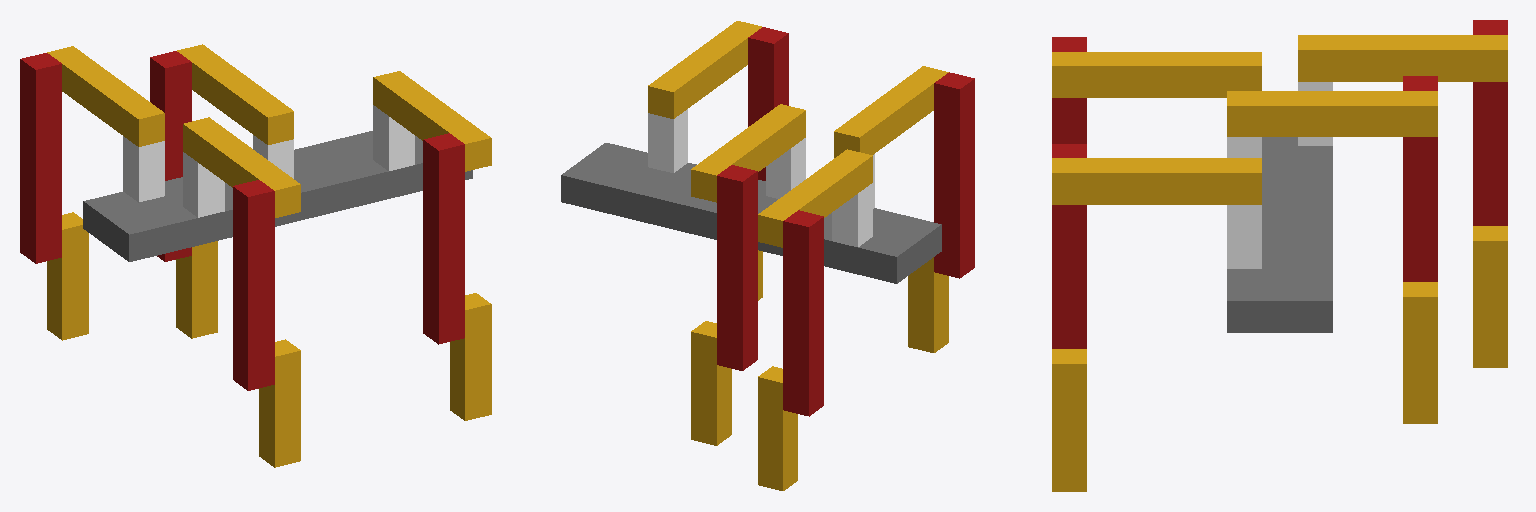
robot.urdf — v0:
<?xml version="1.0" encoding="utf-8"?>
<!-- =================================================================================== -->
<!-- |    This document was autogenerated by xacro from ../robots/v0variants/xacros/v0_4l_14.xacro | -->
<!-- |    EDITING THIS FILE BY HAND IS NOT RECOMMENDED                                 | -->
<!-- =================================================================================== -->
<robot name="v0">
  <material name="grey">
    <color rgba="0.5 0.5 0.5 1"/>
  </material>
  <material name="white">
    <color rgba="1 1 1 1"/>
  </material>
  <material name="yellow">
    <color rgba="0.91 0.7 0.14 1"/>
  </material>
  <material name="red">
    <color rgba="0.71 0.14 0.14 1"/>
  </material>
  <link name="body">
    <visual>
      <geometry>
        <box size="1.3 0.3 0.1"/>
      </geometry>
      <material name="grey"/>
      <origin rpy="0 0 0" xyz="0 0 0.7"/>
    </visual>
    <collision>
      <geometry>
        <box size="1.3 0.3 0.1"/>
      </geometry>
      <origin rpy="0 0 0" xyz="0 0 0.7"/>
    </collision>
    <inertial>
      <mass value="99.84"/>
      <inertia ixx="0.832" ixy="0.0" ixz="0.0" iyy="14.144" iyz="0.0" izz="14.8096"/>
    </inertial>
  </link>
  <link name="l1_segment_1">
    <visual>
      <geometry>
        <box size="0.1 0.1 0.2"/>
      </geometry>
      <material name="white"/>
      <origin rpy="0 0 0" xyz="0 0 0.1"/>
    </visual>
    <collision>
      <geometry>
        <box size="0.1 0.1 0.2"/>
      </geometry>
      <origin rpy="0 0 0" xyz="0 0 0.1"/>
    </collision>
    <inertial>
      <mass value="5.12"/>
      <inertia ixx="0.0213333333333" ixy="0.0" ixz="0.0" iyy="0.0213333333333" iyz="0.0" izz="0.00853333333333"/>
    </inertial>
  </link>
  <joint name="l1_base_to_joint_1" type="fixed">
    <parent link="body"/>
    <child link="l1_segment_1"/>
    <origin rpy="0 0 0" xyz="-0.4494592111622601 0.1 0.75"/>
  </joint>
  <link name="l1_segment_2_HIP">
    <visual>
      <geometry>
        <box size="0.1 0.6 0.1"/>
      </geometry>
      <material name="yellow"/>
      <origin rpy="0 0 0" xyz="0 0.25 0"/>
    </visual>
    <collision>
      <geometry>
        <box size="0.1 0.6 0.1"/>
      </geometry>
      <origin rpy="0 0 0" xyz="0 0.25 0"/>
    </collision>
    <inertial>
      <mass value="15.36"/>
      <inertia ixx="0.4736" ixy="0.0" ixz="0.0" iyy="0.0256" iyz="0.0" izz="0.4736"/>
    </inertial>
  </link>
  <joint name="l1_joint_1_to_2" type="revolute">
    <parent link="l1_segment_1"/>
    <child link="l1_segment_2_HIP"/>
    <origin rpy="0 0 0" xyz="0 0 0.25"/>
    <axis xyz="0.0 0.0 1.0"/>
    <limit effort="2048" lower="-1.2" upper="1.2" velocity="20"/>
  </joint>
  <link name="l1_segment_3_THIGH">
    <visual>
      <geometry>
        <box size="0.1 0.1 0.7"/>
      </geometry>
      <material name="red"/>
      <origin rpy="0 0 0" xyz="0 0 -0.3"/>
    </visual>
    <collision>
      <geometry>
        <box size="0.1 0.1 0.7"/>
      </geometry>
      <origin rpy="0 0 0" xyz="0 0 -0.3"/>
    </collision>
    <inertial>
      <mass value="17.92"/>
      <inertia ixx="0.746666666667" ixy="0.0" ixz="0.0" iyy="0.746666666667" iyz="0.0" izz="0.0298666666667"/>
    </inertial>
  </link>
  <joint name="l1_joint_2_to_3" type="revolute">
    <parent link="l1_segment_2_HIP"/>
    <child link="l1_segment_3_THIGH"/>
    <origin rpy="0 0 0" xyz="-0.1 0.5 0"/>
    <axis xyz="1.0 0.0 0.0"/>
    <limit effort="2048" lower="-0.2" upper="0.75" velocity="20"/>
  </joint>
  <link name="l1_segment_4_FOOT">
    <visual>
      <geometry>
        <box size="0.1 0.1 0.4"/>
      </geometry>
      <material name="yellow"/>
      <origin rpy="0 0 0" xyz="0 0 -0.2"/>
    </visual>
    <collision>
      <geometry>
        <box size="0.1 0.1 0.4"/>
      </geometry>
      <origin rpy="0 0 0" xyz="0 0 -0.2"/>
    </collision>
    <inertial>
      <mass value="10.24"/>
      <inertia ixx="0.145066666667" ixy="0.0" ixz="0.0" iyy="0.145066666667" iyz="0.0" izz="0.0170666666667"/>
    </inertial>
  </link>
  <joint name="l1_joint_3_to_4_FOOT" type="revolute">
    <parent link="l1_segment_3_THIGH"/>
    <child link="l1_segment_4_FOOT"/>
    <origin rpy="0 0 0" xyz="0.1 0 -0.55"/>
    <axis xyz="1.0 0.0 0.0"/>
    <limit effort="2048" lower="-0.2" upper="0.5" velocity="20"/>
  </joint>
  <link name="r2_segment_1">
    <visual>
      <geometry>
        <box size="0.1 0.1 0.2"/>
      </geometry>
      <material name="white"/>
      <origin rpy="0 0 0" xyz="0 0 0.1"/>
    </visual>
    <collision>
      <geometry>
        <box size="0.1 0.1 0.2"/>
      </geometry>
      <origin rpy="0 0 0" xyz="0 0 0.1"/>
    </collision>
    <inertial>
      <mass value="5.12"/>
      <inertia ixx="0.0213333333333" ixy="0.0" ixz="0.0" iyy="0.0213333333333" iyz="0.0" izz="0.00853333333333"/>
    </inertial>
  </link>
  <joint name="r2_base_to_joint_1" type="fixed">
    <parent link="body"/>
    <child link="r2_segment_1"/>
    <origin rpy="0 0 0" xyz="-0.3400792960925066 -0.1 0.75"/>
  </joint>
  <link name="r2_segment_2_HIP">
    <visual>
      <geometry>
        <box size="0.1 0.6 0.1"/>
      </geometry>
      <material name="yellow"/>
      <origin rpy="0 0 0" xyz="0 -0.25 0"/>
    </visual>
    <collision>
      <geometry>
        <box size="0.1 0.6 0.1"/>
      </geometry>
      <origin rpy="0 0 0" xyz="0 -0.25 0"/>
    </collision>
    <inertial>
      <mass value="15.36"/>
      <inertia ixx="0.4736" ixy="0.0" ixz="0.0" iyy="0.0256" iyz="0.0" izz="0.4736"/>
    </inertial>
  </link>
  <joint name="r2_joint_1_to_2" type="revolute">
    <parent link="r2_segment_1"/>
    <child link="r2_segment_2_HIP"/>
    <origin rpy="0 0 0" xyz="0 0 0.25"/>
    <axis xyz="0.0 0.0 1.0"/>
    <limit effort="2048" lower="-1.2" upper="1.2" velocity="20"/>
  </joint>
  <link name="r2_segment_3_THIGH">
    <visual>
      <geometry>
        <box size="0.1 0.1 0.7"/>
      </geometry>
      <material name="red"/>
      <origin rpy="0 0 0" xyz="0 0 -0.3"/>
    </visual>
    <collision>
      <geometry>
        <box size="0.1 0.1 0.7"/>
      </geometry>
      <origin rpy="0 0 0" xyz="0 0 -0.3"/>
    </collision>
    <inertial>
      <mass value="17.92"/>
      <inertia ixx="0.746666666667" ixy="0.0" ixz="0.0" iyy="0.746666666667" iyz="0.0" izz="0.0298666666667"/>
    </inertial>
  </link>
  <joint name="r2_joint_2_to_3" type="revolute">
    <parent link="r2_segment_2_HIP"/>
    <child link="r2_segment_3_THIGH"/>
    <origin rpy="0 0 0" xyz="-0.1 -0.5 0"/>
    <axis xyz="1.0 0.0 0.0"/>
    <limit effort="2048" lower="-0.75" upper="0.2" velocity="20"/>
  </joint>
  <link name="r2_segment_4_FOOT">
    <visual>
      <geometry>
        <box size="0.1 0.1 0.4"/>
      </geometry>
      <material name="yellow"/>
      <origin rpy="0 0 0" xyz="0 0 -0.2"/>
    </visual>
    <collision>
      <geometry>
        <box size="0.1 0.1 0.4"/>
      </geometry>
      <origin rpy="0 0 0" xyz="0 0 -0.2"/>
    </collision>
    <inertial>
      <mass value="10.24"/>
      <inertia ixx="0.145066666667" ixy="0.0" ixz="0.0" iyy="0.145066666667" iyz="0.0" izz="0.0170666666667"/>
    </inertial>
  </link>
  <joint name="r2_joint_3_to_4_FOOT" type="revolute">
    <parent link="r2_segment_3_THIGH"/>
    <child link="r2_segment_4_FOOT"/>
    <origin rpy="0 0 0" xyz="0.1 0 -0.55"/>
    <axis xyz="1.0 0.0 0.0"/>
    <limit effort="2048" lower="-0.5" upper="0.2" velocity="20"/>
  </joint>
  <link name="l3_segment_1">
    <visual>
      <geometry>
        <box size="0.1 0.1 0.2"/>
      </geometry>
      <material name="white"/>
      <origin rpy="0 0 0" xyz="0 0 0.1"/>
    </visual>
    <collision>
      <geometry>
        <box size="0.1 0.1 0.2"/>
      </geometry>
      <origin rpy="0 0 0" xyz="0 0 0.1"/>
    </collision>
    <inertial>
      <mass value="5.12"/>
      <inertia ixx="0.0213333333333" ixy="0.0" ixz="0.0" iyy="0.0213333333333" iyz="0.0" izz="0.00853333333333"/>
    </inertial>
  </link>
  <joint name="l3_base_to_joint_1" type="fixed">
    <parent link="body"/>
    <child link="l3_segment_1"/>
    <origin rpy="0 0 0" xyz="-0.0759015048462297 -0.1 0.75"/>
  </joint>
  <link name="l3_segment_2_HIP">
    <visual>
      <geometry>
        <box size="0.1 0.6 0.1"/>
      </geometry>
      <material name="yellow"/>
      <origin rpy="0 0 0" xyz="0 0.25 0"/>
    </visual>
    <collision>
      <geometry>
        <box size="0.1 0.6 0.1"/>
      </geometry>
      <origin rpy="0 0 0" xyz="0 0.25 0"/>
    </collision>
    <inertial>
      <mass value="15.36"/>
      <inertia ixx="0.4736" ixy="0.0" ixz="0.0" iyy="0.0256" iyz="0.0" izz="0.4736"/>
    </inertial>
  </link>
  <joint name="l3_joint_1_to_2" type="revolute">
    <parent link="l3_segment_1"/>
    <child link="l3_segment_2_HIP"/>
    <origin rpy="0 0 0" xyz="0 0 0.25"/>
    <axis xyz="0.0 0.0 1.0"/>
    <limit effort="2048" lower="-1.2" upper="1.2" velocity="20"/>
  </joint>
  <link name="l3_segment_3_THIGH">
    <visual>
      <geometry>
        <box size="0.1 0.1 0.7"/>
      </geometry>
      <material name="red"/>
      <origin rpy="0 0 0" xyz="0 0 -0.3"/>
    </visual>
    <collision>
      <geometry>
        <box size="0.1 0.1 0.7"/>
      </geometry>
      <origin rpy="0 0 0" xyz="0 0 -0.3"/>
    </collision>
    <inertial>
      <mass value="17.92"/>
      <inertia ixx="0.746666666667" ixy="0.0" ixz="0.0" iyy="0.746666666667" iyz="0.0" izz="0.0298666666667"/>
    </inertial>
  </link>
  <joint name="l3_joint_2_to_3" type="revolute">
    <parent link="l3_segment_2_HIP"/>
    <child link="l3_segment_3_THIGH"/>
    <origin rpy="0 0 0" xyz="-0.1 0.5 0"/>
    <axis xyz="1.0 0.0 0.0"/>
    <limit effort="2048" lower="-0.2" upper="0.75" velocity="20"/>
  </joint>
  <link name="l3_segment_4_FOOT">
    <visual>
      <geometry>
        <box size="0.1 0.1 0.4"/>
      </geometry>
      <material name="yellow"/>
      <origin rpy="0 0 0" xyz="0 0 -0.2"/>
    </visual>
    <collision>
      <geometry>
        <box size="0.1 0.1 0.4"/>
      </geometry>
      <origin rpy="0 0 0" xyz="0 0 -0.2"/>
    </collision>
    <inertial>
      <mass value="10.24"/>
      <inertia ixx="0.145066666667" ixy="0.0" ixz="0.0" iyy="0.145066666667" iyz="0.0" izz="0.0170666666667"/>
    </inertial>
  </link>
  <joint name="l3_joint_3_to_4_FOOT" type="revolute">
    <parent link="l3_segment_3_THIGH"/>
    <child link="l3_segment_4_FOOT"/>
    <origin rpy="0 0 0" xyz="0.1 0 -0.55"/>
    <axis xyz="1.0 0.0 0.0"/>
    <limit effort="2048" lower="-0.2" upper="0.5" velocity="20"/>
  </joint>
  <link name="r4_segment_1">
    <visual>
      <geometry>
        <box size="0.1 0.1 0.2"/>
      </geometry>
      <material name="white"/>
      <origin rpy="0 0 0" xyz="0 0 0.1"/>
    </visual>
    <collision>
      <geometry>
        <box size="0.1 0.1 0.2"/>
      </geometry>
      <origin rpy="0 0 0" xyz="0 0 0.1"/>
    </collision>
    <inertial>
      <mass value="5.12"/>
      <inertia ixx="0.0213333333333" ixy="0.0" ixz="0.0" iyy="0.0213333333333" iyz="0.0" izz="0.00853333333333"/>
    </inertial>
  </link>
  <joint name="r4_base_to_joint_1" type="fixed">
    <parent link="body"/>
    <child link="r4_segment_1"/>
    <origin rpy="0 0 0" xyz="0.3799372292171138 -0.1 0.75"/>
  </joint>
  <link name="r4_segment_2_HIP">
    <visual>
      <geometry>
        <box size="0.1 0.6 0.1"/>
      </geometry>
      <material name="yellow"/>
      <origin rpy="0 0 0" xyz="0 -0.25 0"/>
    </visual>
    <collision>
      <geometry>
        <box size="0.1 0.6 0.1"/>
      </geometry>
      <origin rpy="0 0 0" xyz="0 -0.25 0"/>
    </collision>
    <inertial>
      <mass value="15.36"/>
      <inertia ixx="0.4736" ixy="0.0" ixz="0.0" iyy="0.0256" iyz="0.0" izz="0.4736"/>
    </inertial>
  </link>
  <joint name="r4_joint_1_to_2" type="revolute">
    <parent link="r4_segment_1"/>
    <child link="r4_segment_2_HIP"/>
    <origin rpy="0 0 0" xyz="0 0 0.25"/>
    <axis xyz="0.0 0.0 1.0"/>
    <limit effort="2048" lower="-1.2" upper="1.2" velocity="20"/>
  </joint>
  <link name="r4_segment_3_THIGH">
    <visual>
      <geometry>
        <box size="0.1 0.1 0.7"/>
      </geometry>
      <material name="red"/>
      <origin rpy="0 0 0" xyz="0 0 -0.3"/>
    </visual>
    <collision>
      <geometry>
        <box size="0.1 0.1 0.7"/>
      </geometry>
      <origin rpy="0 0 0" xyz="0 0 -0.3"/>
    </collision>
    <inertial>
      <mass value="17.92"/>
      <inertia ixx="0.746666666667" ixy="0.0" ixz="0.0" iyy="0.746666666667" iyz="0.0" izz="0.0298666666667"/>
    </inertial>
  </link>
  <joint name="r4_joint_2_to_3" type="revolute">
    <parent link="r4_segment_2_HIP"/>
    <child link="r4_segment_3_THIGH"/>
    <origin rpy="0 0 0" xyz="-0.1 -0.5 0"/>
    <axis xyz="1.0 0.0 0.0"/>
    <limit effort="2048" lower="-0.75" upper="0.2" velocity="20"/>
  </joint>
  <link name="r4_segment_4_FOOT">
    <visual>
      <geometry>
        <box size="0.1 0.1 0.4"/>
      </geometry>
      <material name="yellow"/>
      <origin rpy="0 0 0" xyz="0 0 -0.2"/>
    </visual>
    <collision>
      <geometry>
        <box size="0.1 0.1 0.4"/>
      </geometry>
      <origin rpy="0 0 0" xyz="0 0 -0.2"/>
    </collision>
    <inertial>
      <mass value="10.24"/>
      <inertia ixx="0.145066666667" ixy="0.0" ixz="0.0" iyy="0.145066666667" iyz="0.0" izz="0.0170666666667"/>
    </inertial>
  </link>
  <joint name="r4_joint_3_to_4_FOOT" type="revolute">
    <parent link="r4_segment_3_THIGH"/>
    <child link="r4_segment_4_FOOT"/>
    <origin rpy="0 0 0" xyz="0.1 0 -0.55"/>
    <axis xyz="1.0 0.0 0.0"/>
    <limit effort="2048" lower="-0.5" upper="0.2" velocity="20"/>
  </joint>
</robot>

--- Facts derived from the render (not from the file) ---
The picture shows the robot from 3 angles, left to right: view 1: azimuth 30°, elevation 25°; view 2: azimuth 150°, elevation 25°; view 3: azimuth 270°, elevation 25°; orthographic projection.
Model v0 with 17 links and 16 joints (12 revolute, 4 fixed), rooted at body, posed every joint at zero.
Links seen in each view (by area): view 1: body, r2_segment_3_THIGH, l1_segment_3_THIGH, r4_segment_3_THIGH, l1_segment_2_HIP, l3_segment_2_HIP, r4_segment_2_HIP, r2_segment_2_HIP, r4_segment_4_FOOT, r2_segment_4_FOOT, l1_segment_4_FOOT, l3_segment_3_THIGH (+5 smaller); view 2: body, l3_segment_3_THIGH, l1_segment_3_THIGH, r2_segment_3_THIGH, r4_segment_2_HIP, r2_segment_2_HIP, l3_segment_2_HIP, l1_segment_2_HIP, l3_segment_4_FOOT, l1_segment_4_FOOT, r4_segment_3_THIGH, r2_segment_4_FOOT (+3 smaller); view 3: body, r4_segment_2_HIP, l3_segment_2_HIP, l1_segment_2_HIP, r2_segment_2_HIP, l3_segment_3_THIGH, l1_segment_3_THIGH, r4_segment_3_THIGH, r4_segment_4_FOOT, l1_segment_4_FOOT, l3_segment_4_FOOT, r4_segment_1 (+3 smaller).
Link boxes in pixels (box(x1,y1,x2,y2)): body: box(83, 131, 472, 261); r2_segment_3_THIGH: box(233, 180, 274, 390); l1_segment_3_THIGH: box(20, 53, 61, 263); r4_segment_3_THIGH: box(423, 133, 464, 344); l1_segment_2_HIP: box(47, 46, 164, 146); l3_segment_2_HIP: box(177, 44, 293, 144); r4_segment_2_HIP: box(373, 71, 491, 171); r2_segment_2_HIP: box(183, 117, 300, 217); r4_segment_4_FOOT: box(450, 293, 491, 420); r2_segment_4_FOOT: box(259, 339, 300, 467); l1_segment_4_FOOT: box(47, 212, 88, 340); l3_segment_3_THIGH: box(150, 51, 191, 261); body: box(561, 143, 941, 283); l3_segment_3_THIGH: box(717, 165, 757, 370); l1_segment_3_THIGH: box(783, 210, 823, 416); r2_segment_3_THIGH: box(934, 72, 974, 278); r4_segment_2_HIP: box(648, 21, 761, 118); r2_segment_2_HIP: box(834, 66, 948, 157); l3_segment_2_HIP: box(691, 104, 805, 202); l1_segment_2_HIP: box(758, 149, 872, 247); l3_segment_4_FOOT: box(691, 321, 731, 445); l1_segment_4_FOOT: box(758, 366, 797, 490); r4_segment_3_THIGH: box(748, 27, 788, 180); r2_segment_4_FOOT: box(908, 257, 948, 352); body: box(1227, 137, 1332, 332); r4_segment_2_HIP: box(1052, 158, 1261, 204); l3_segment_2_HIP: box(1227, 91, 1437, 136); l1_segment_2_HIP: box(1298, 35, 1507, 81); r2_segment_2_HIP: box(1052, 52, 1261, 97); l3_segment_3_THIGH: box(1403, 76, 1437, 281); l1_segment_3_THIGH: box(1473, 20, 1507, 225); r4_segment_3_THIGH: box(1052, 144, 1086, 348); r4_segment_4_FOOT: box(1052, 349, 1086, 491); l1_segment_4_FOOT: box(1473, 226, 1507, 367); l3_segment_4_FOOT: box(1403, 282, 1437, 423); r4_segment_1: box(1227, 205, 1261, 268).
Bounding box of the posed robot: 1.3 × 1.3 × 1 m (x, y, z).
Geometry: primitives only (box / cylinder / sphere), no mesh files.